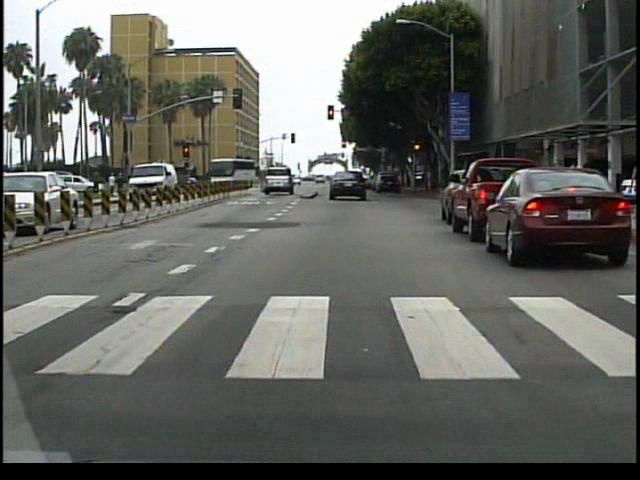person: (113, 174, 128, 206), (91, 171, 104, 201), (108, 172, 120, 199)
